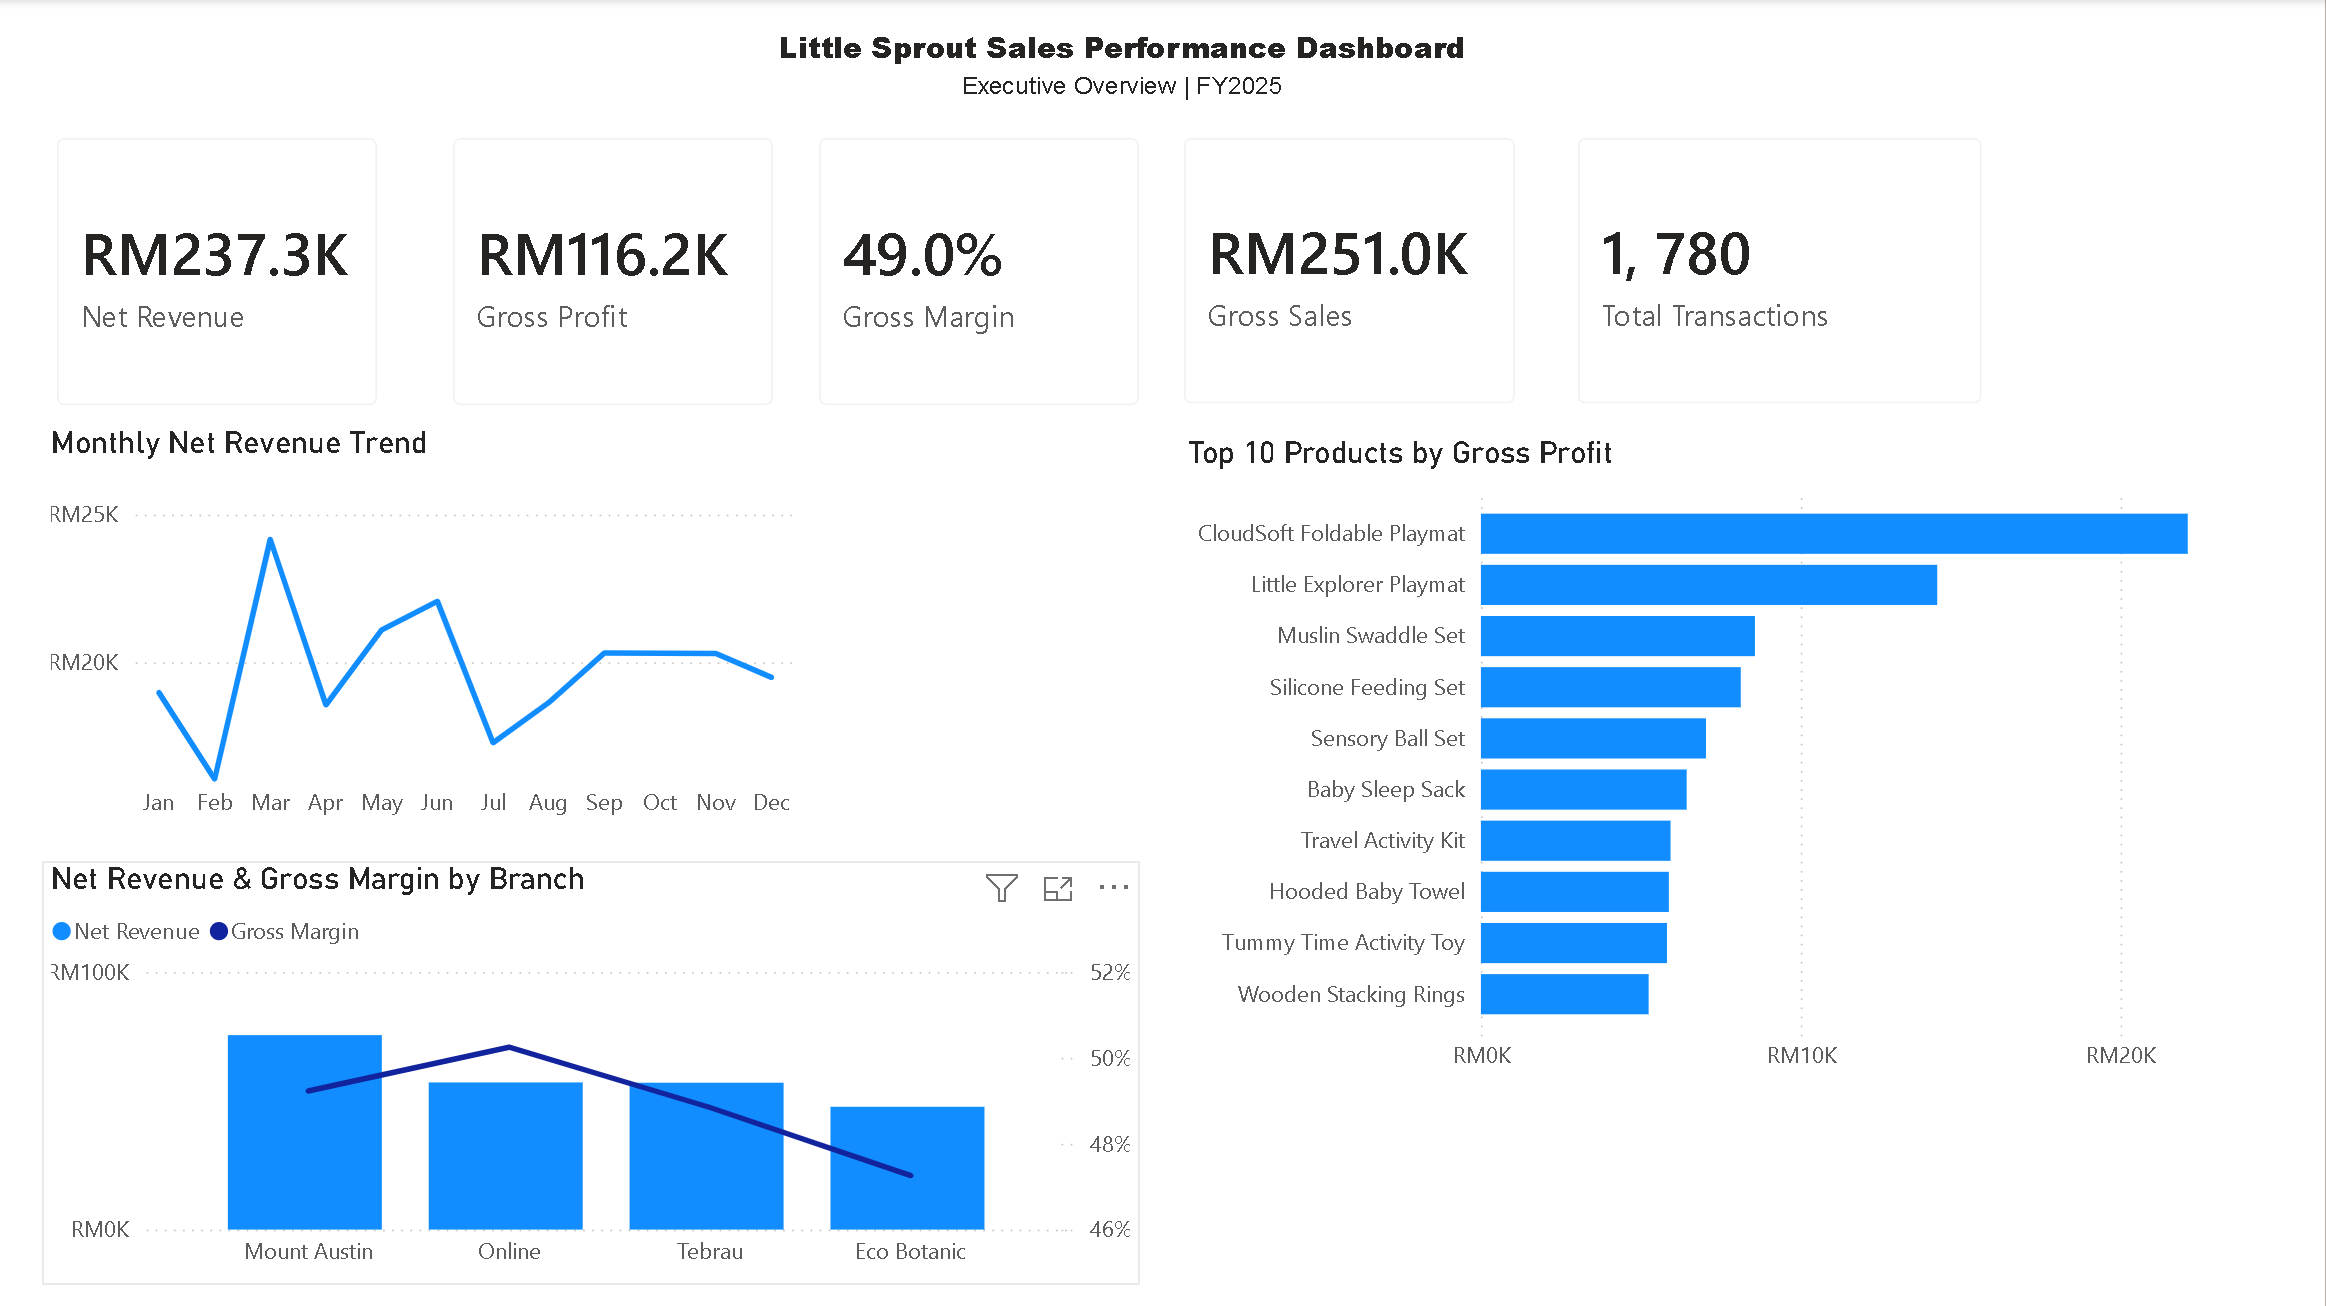

The page's visual inventory and layout, read from the dashboard file:
{"tool":"powerbi","page":{"name":"Executive Overview","canvas":[1280,720],"ordinal":0},"visuals":[{"type":"cardVisual","fields":{"Data":["Raw_Sales_Data.Net Revenue"]},"box":[16.3,59.2,210,181],"z":0},{"type":"cardVisual","fields":{"Data":["Raw_Sales_Data.Gross Profit"]},"box":[234.1,59.2,210,181],"z":1000},{"type":"cardVisual","fields":{"Data":["Raw_Sales_Data.Gross Margin %"]},"box":[435,59.2,210,181],"z":2000},{"type":"cardVisual","fields":{"Data":["Raw_Sales_Data.Gross Sales"]},"box":[635.7,59.2,216.3,180.6],"z":3000},{"type":"lineChart","title":"Monthly Net Revenue Trend","fields":{"Category":["Date Table.Month Short"],"Y":["Raw_Sales_Data.Net Revenue"]},"box":[25.5,234.7,418.4,225.5],"z":4000},{"type":"lineClusteredColumnComboChart","title":"Net Revenue & Gross Margin by Branch","fields":{"Category":["Raw_Sales_Data.Branch"],"Y":["Raw_Sales_Data.Net Revenue"],"Y2":["Raw_Sales_Data.Gross Margin %"]},"box":[25.5,474.5,603.1,232.7],"z":5000},{"type":"clusteredBarChart","title":"Top 10 Products by Gross Profit","fields":{"Category":["Raw_Sales_Data.Product_Name"],"Y":["Raw_Sales_Data.Gross Profit"]},"box":[650,239.8,629.6,359.2],"z":6000},{"type":"textbox","box":[0,10.2,1237.8,62.2],"z":7000},{"type":"cardVisual","fields":{"Data":["Date Table.Total Transactions Display"]},"box":[852,59.2,256.1,180.6],"z":8000}]}

Visuals, with their boxes in screenshot pixels (x1, y1, x2, y2), scaled from the page's 1280x720 canvas onto the 2326x1306 screenshot:
cardVisual - Raw_Sales_Data.Net Revenue: bbox=(30, 107, 411, 436)
cardVisual - Raw_Sales_Data.Gross Profit: bbox=(425, 107, 807, 436)
cardVisual - Raw_Sales_Data.Gross Margin %: bbox=(790, 107, 1172, 436)
cardVisual - Raw_Sales_Data.Gross Sales: bbox=(1155, 107, 1548, 435)
"Monthly Net Revenue Trend" lineChart: bbox=(46, 426, 807, 835)
"Net Revenue & Gross Margin by Branch" lineClusteredColumnComboChart: bbox=(46, 861, 1142, 1283)
"Top 10 Products by Gross Profit" clusteredBarChart: bbox=(1181, 435, 2325, 1087)
textbox: bbox=(0, 19, 2249, 131)
cardVisual - Date Table.Total Transactions Display: bbox=(1548, 107, 2014, 435)
